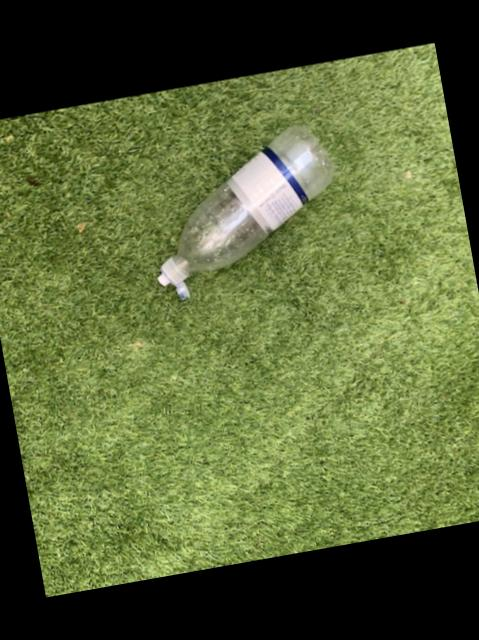plastic: (158, 124, 333, 296)
